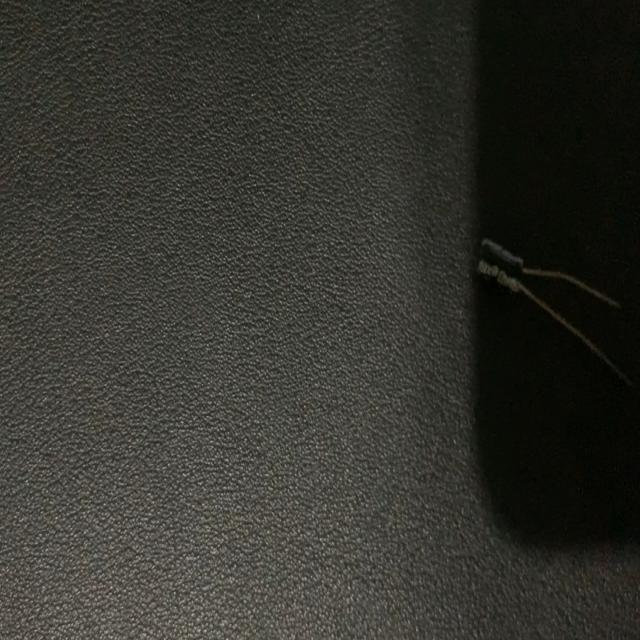capacitor: (472, 233, 632, 391)
